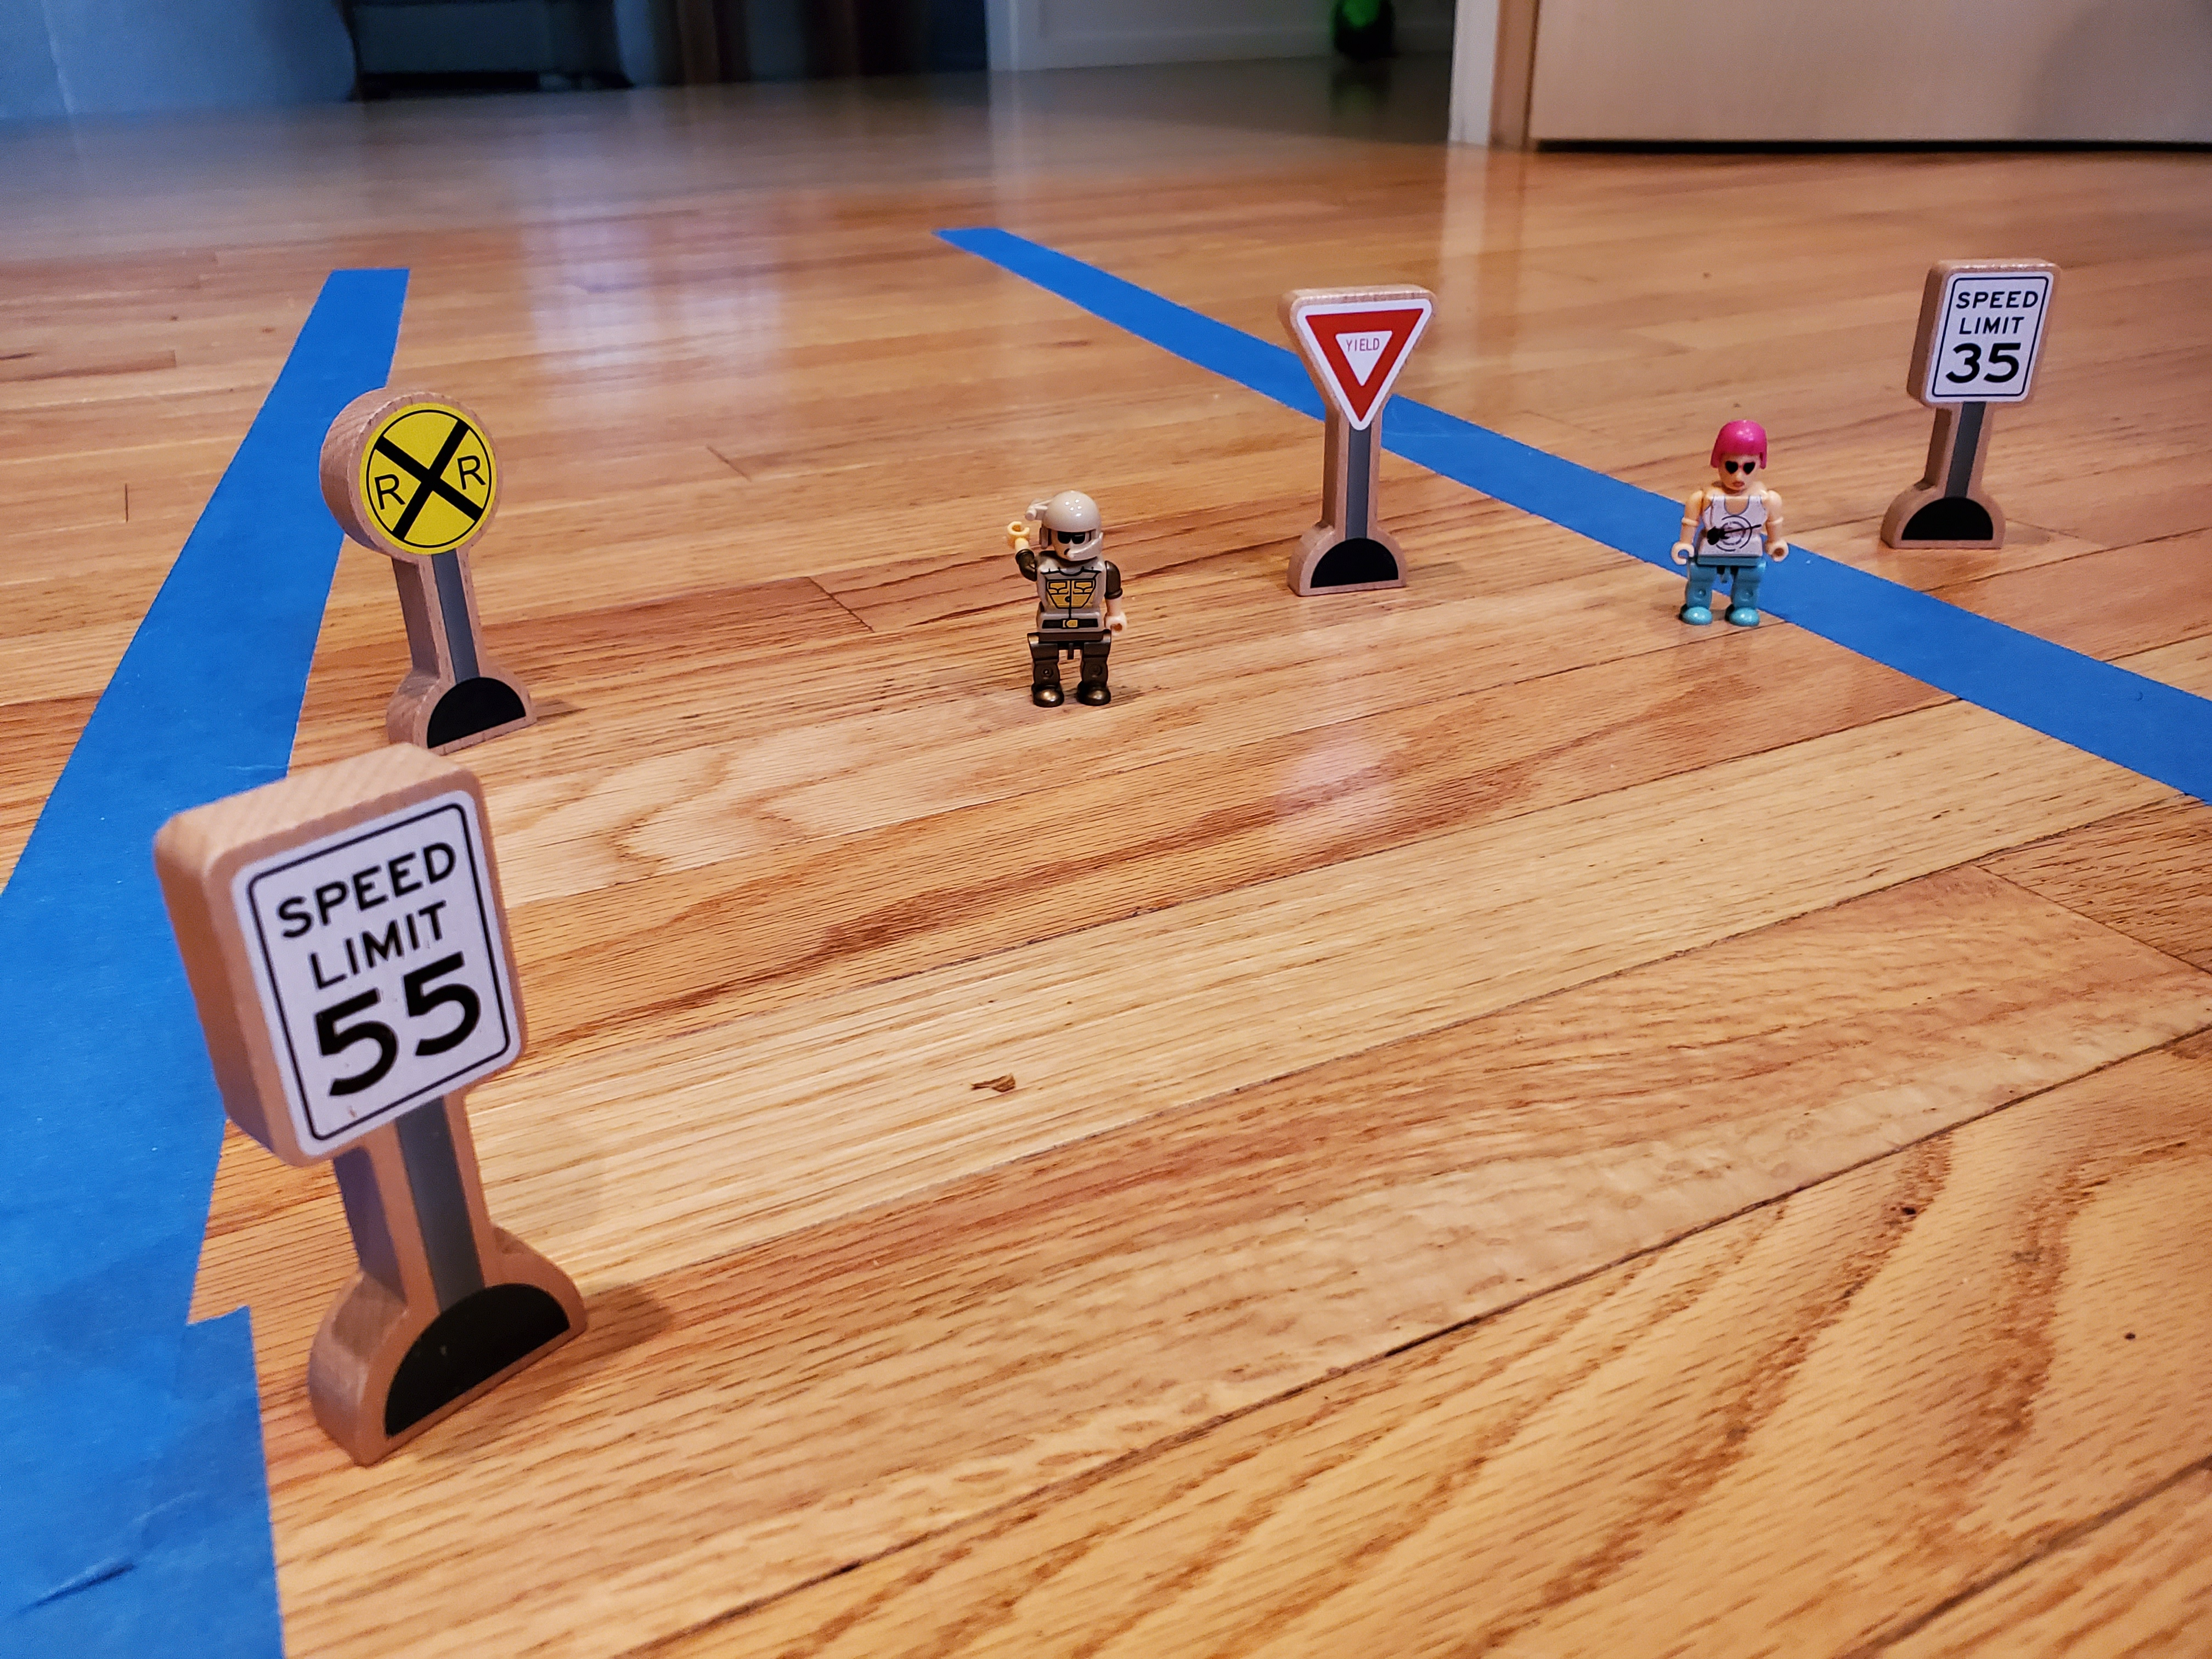Railroad Crossing: (315, 381, 503, 561)
Speed Limit 35: (1909, 242, 2057, 411)
Speed Limit 55: (163, 802, 543, 1148)
Yield Sign: (1269, 270, 1442, 436)
person: (1000, 486, 1144, 724), (1670, 416, 1803, 640)
